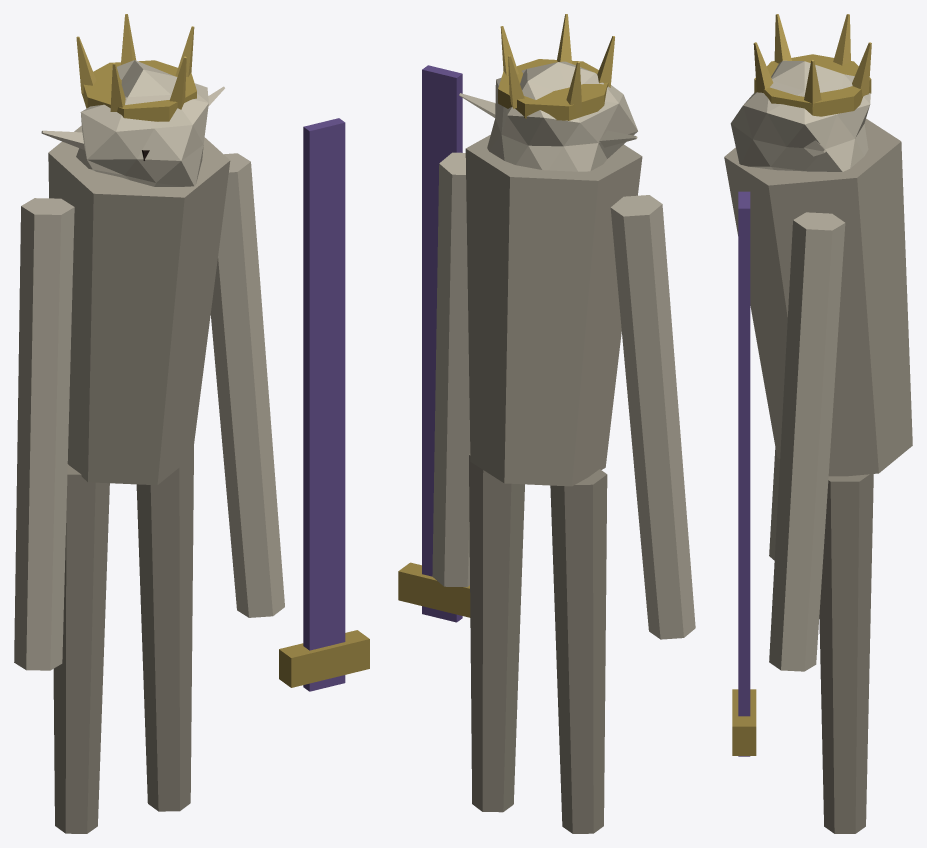
The model's file is barrow_king.glb.
The picture shows the model from 3 angles, left to right: view 1: azimuth 30°, elevation 25°; view 2: azimuth 150°, elevation 25°; view 3: azimuth 270°, elevation 25°; orthographic projection. The views are drawn at different scales.
Visible parts, largest first — view 1: barrow_king; view 2: barrow_king; view 3: barrow_king.
Part boxes in pixels (x1,y1,x2,y2): barrow_king: (14,14,369,833); barrow_king: (398,14,695,833); barrow_king: (724,14,912,833).
Size of the model in its own units: 0.8926 by 2.11 by 0.4682.
Materials: 1 (1 with a texture image).
